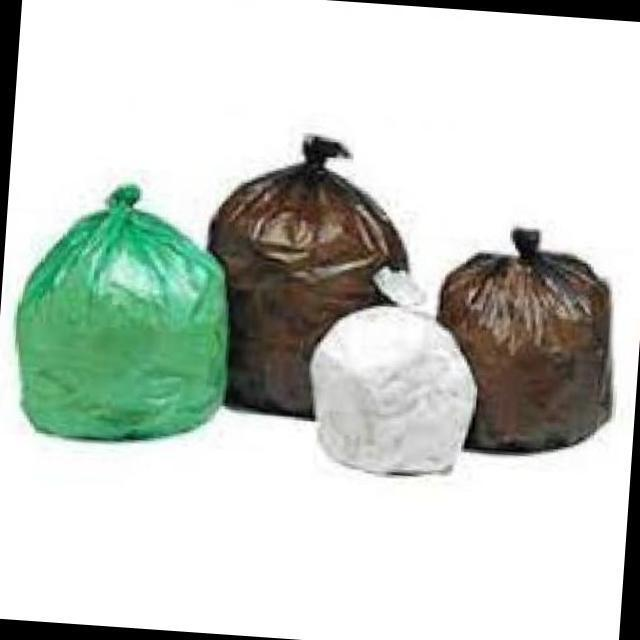Garbage_Bag: (186, 126, 414, 427), (5, 172, 243, 454), (296, 266, 486, 489)
